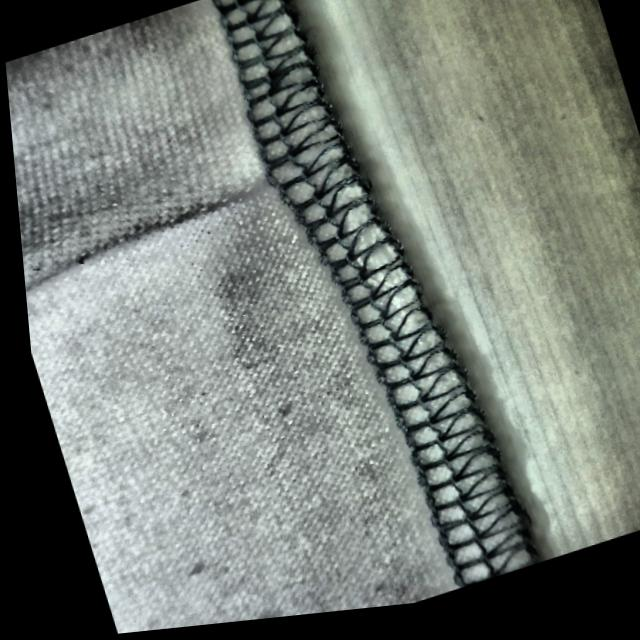seam: (108, 99, 376, 275)
